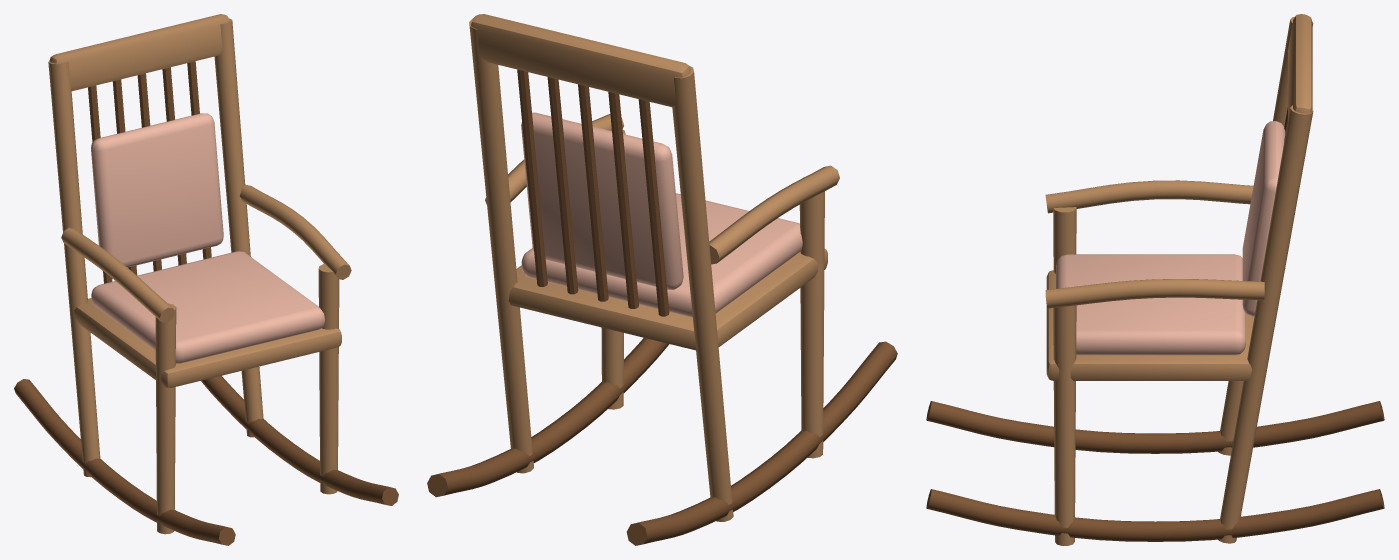
The model's file is rocking_chair.glb.
3 views of the same model, side by side, from view 1: azimuth 30°, elevation 25°; view 2: azimuth 150°, elevation 25°; view 3: azimuth 270°, elevation 25° (orthographic). The views are drawn at different scales.
Parts seen in each view (by area): view 1: rocking_chair; view 2: rocking_chair; view 3: rocking_chair.
Boxes of the visible parts, x1,y1,x2,y2 form: rocking_chair: [14, 14, 398, 545]; rocking_chair: [427, 14, 897, 545]; rocking_chair: [926, 14, 1384, 545].
Size of the model in its own units: 0.5592 by 1.07 by 1.01.
